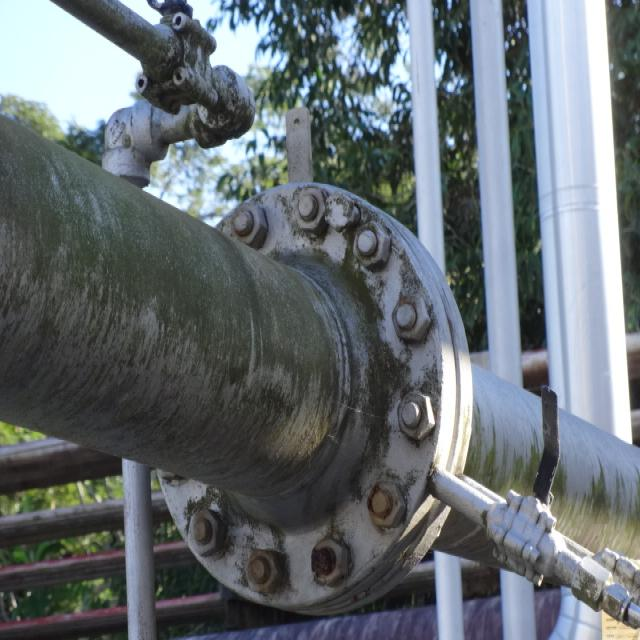gas: (1, 118, 639, 588)
